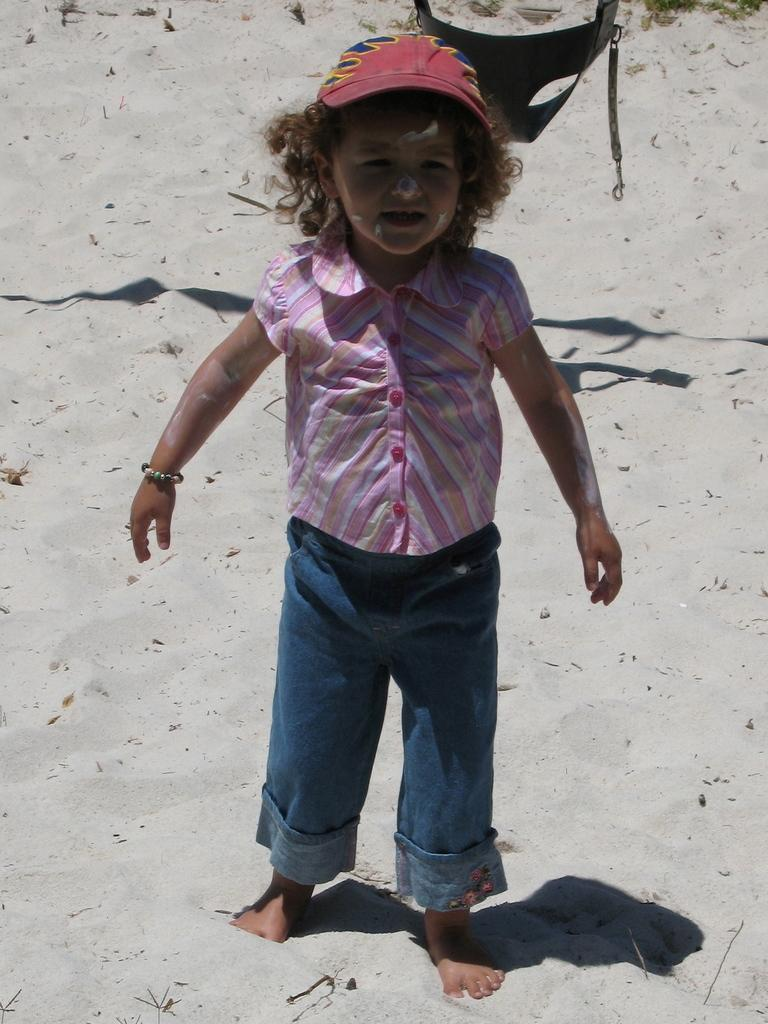Hat: (311, 34, 493, 138)
